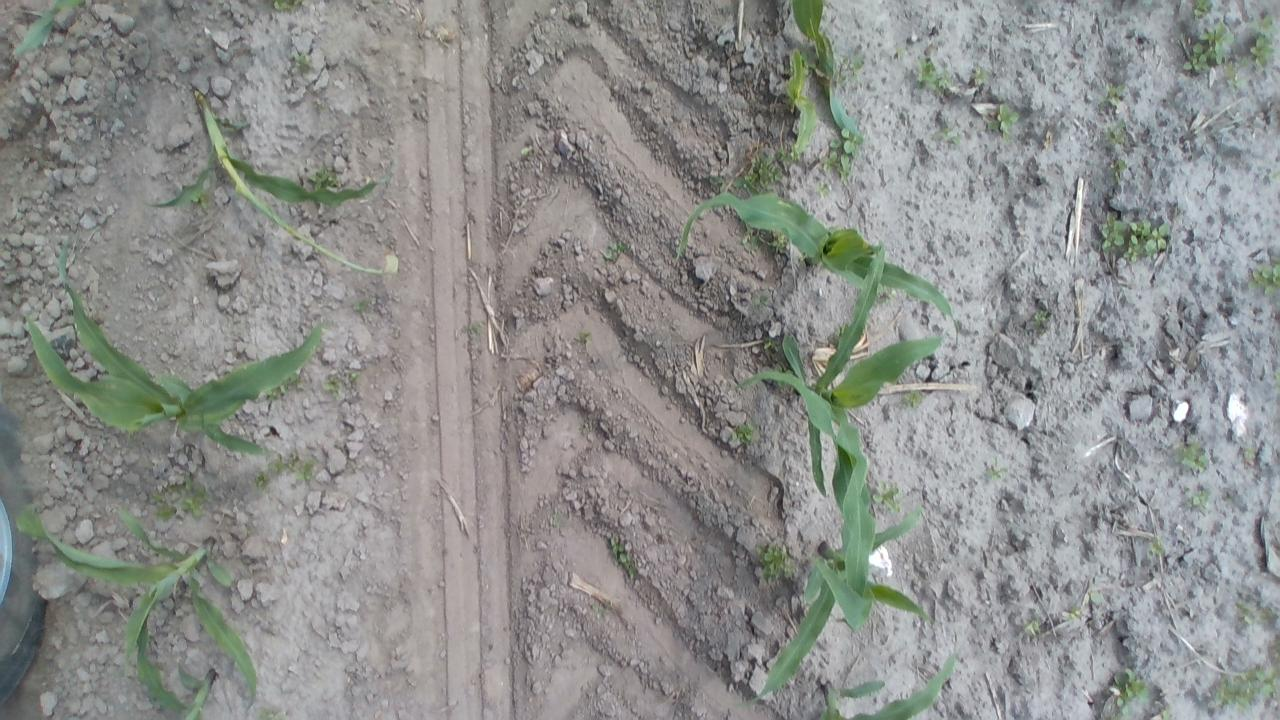Maize: (734, 238, 950, 706), (19, 228, 325, 462), (144, 77, 403, 280), (13, 496, 258, 710), (668, 180, 952, 318), (742, 364, 937, 513), (798, 646, 968, 720), (790, 2, 864, 144), (136, 618, 224, 720), (6, 0, 87, 63), (782, 45, 819, 159)
Weeds: (1094, 211, 1172, 265), (1180, 21, 1236, 78), (148, 470, 207, 522), (1212, 664, 1276, 710), (822, 126, 865, 183), (1106, 668, 1149, 716), (756, 540, 798, 585), (264, 450, 321, 482), (1248, 14, 1276, 74), (604, 532, 640, 578), (1172, 436, 1213, 475), (913, 56, 951, 98), (743, 152, 785, 190), (1232, 598, 1278, 628), (1246, 258, 1276, 300), (988, 102, 1020, 138), (874, 480, 904, 517), (320, 369, 358, 397), (836, 53, 866, 84), (1184, 484, 1217, 512), (1018, 610, 1048, 640), (730, 420, 760, 448), (898, 384, 929, 411), (350, 292, 382, 318), (1222, 59, 1248, 91), (308, 165, 340, 191), (601, 236, 630, 264), (332, 368, 364, 393), (1100, 80, 1128, 108), (761, 229, 790, 254), (290, 50, 315, 77), (984, 459, 1010, 484), (1144, 535, 1169, 560), (572, 324, 596, 350), (1107, 153, 1126, 185), (1105, 120, 1128, 146), (1084, 582, 1107, 608), (544, 505, 566, 532), (250, 704, 292, 718), (587, 599, 612, 622), (250, 467, 272, 493), (264, 0, 308, 13), (939, 120, 960, 146), (1033, 306, 1055, 330), (1239, 441, 1261, 465), (382, 253, 402, 278), (462, 318, 484, 340), (879, 284, 901, 306), (1189, 1, 1214, 20), (971, 64, 991, 87), (190, 187, 210, 210), (751, 290, 771, 312), (1063, 606, 1087, 624), (516, 140, 534, 164), (814, 178, 834, 199), (890, 43, 909, 63), (1151, 704, 1174, 718), (288, 373, 304, 392), (264, 388, 280, 403)
